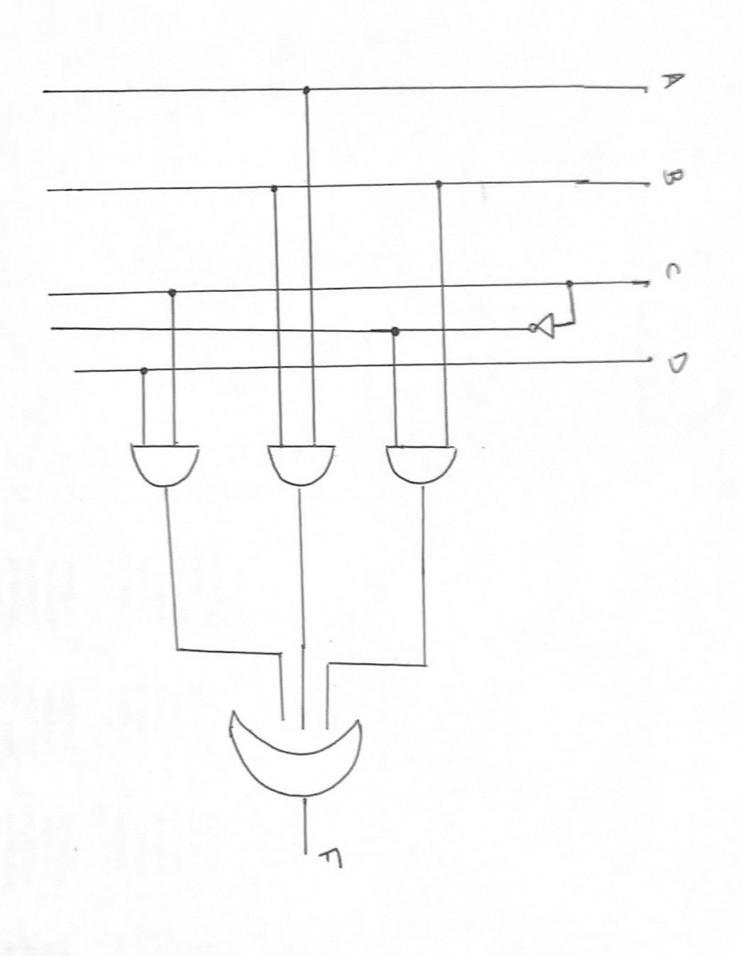AND: (262, 424, 352, 501), (382, 426, 474, 498), (120, 432, 212, 500)
NOT: (522, 308, 566, 346)
OR: (224, 688, 381, 807)
